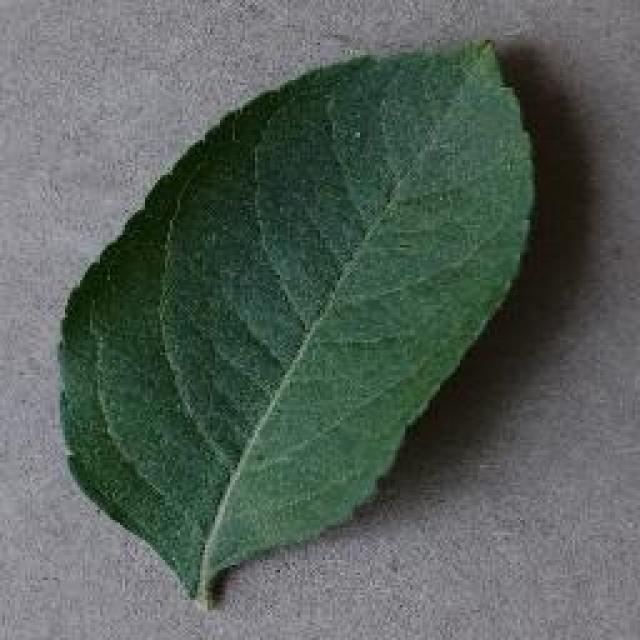apple healthy: (55, 35, 537, 610)
